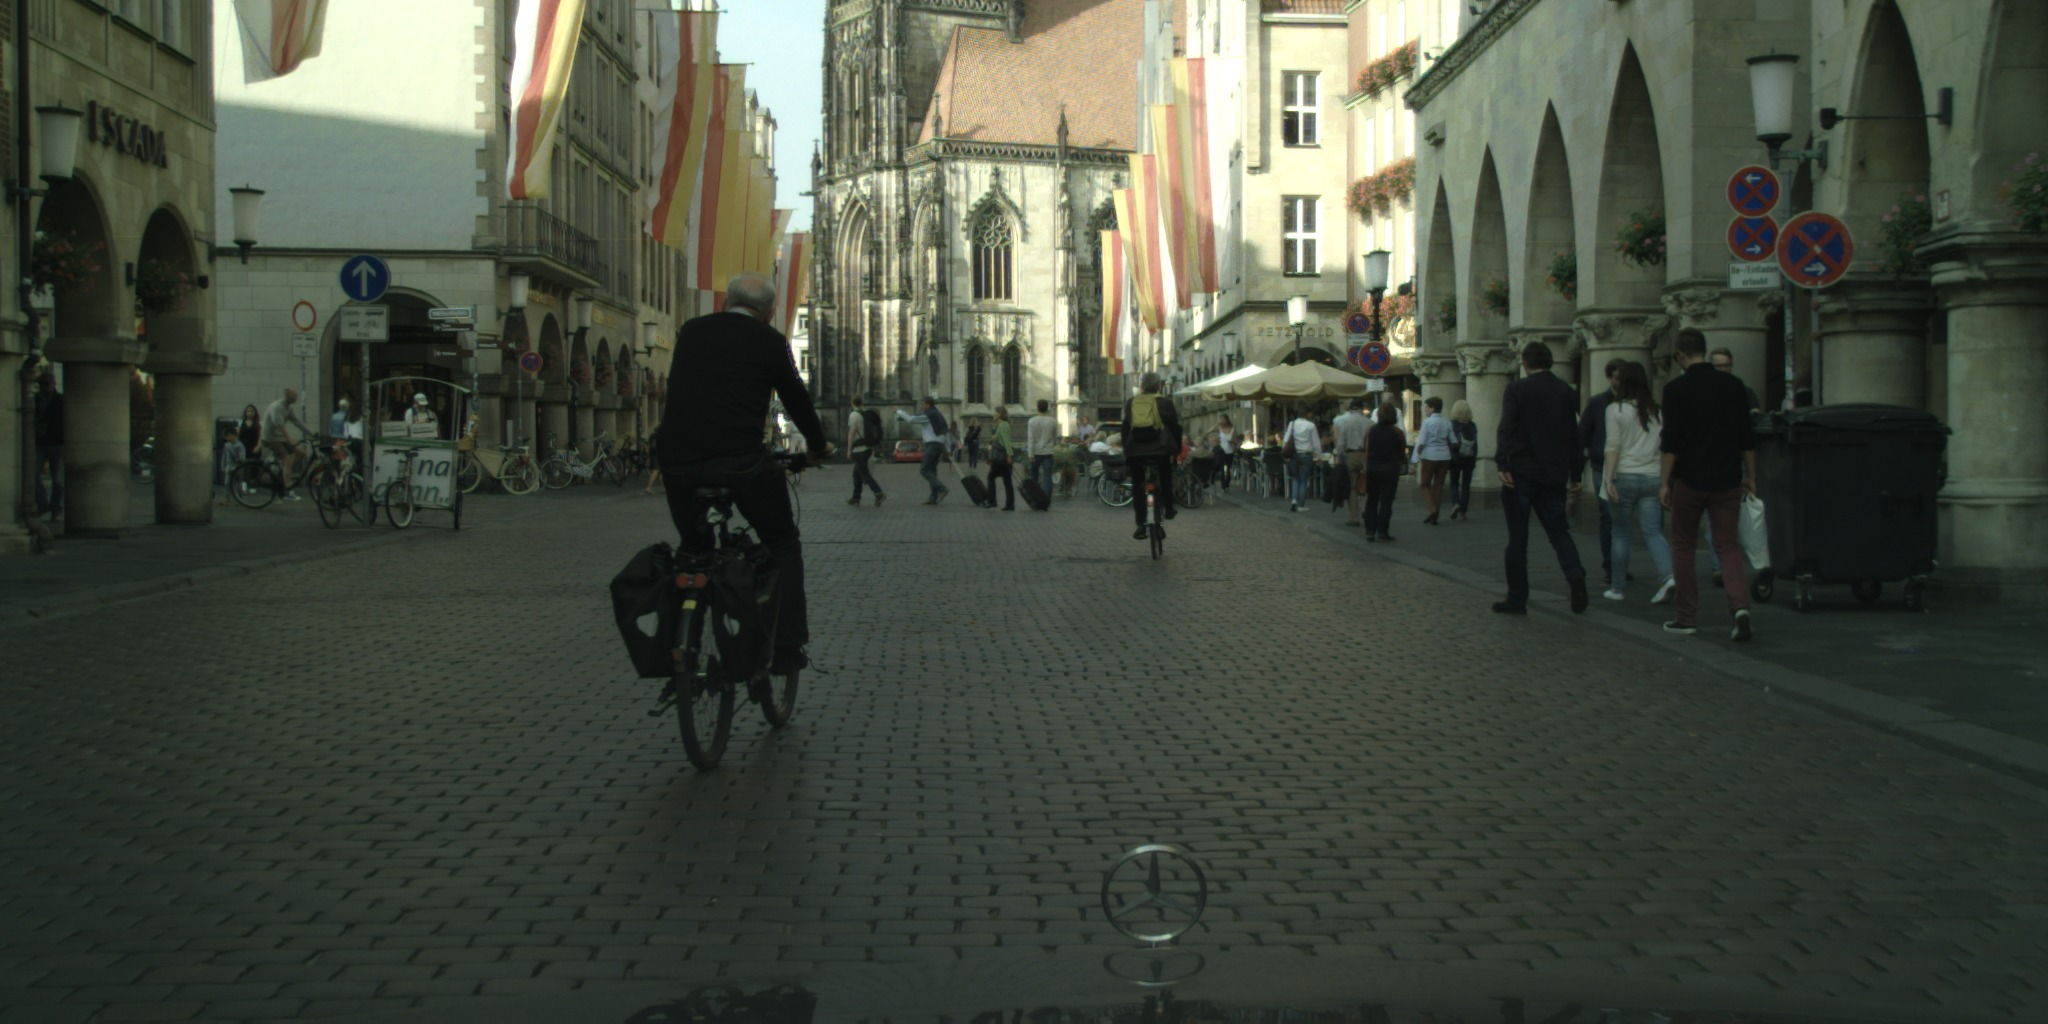bicycle: (607, 486, 801, 772), (230, 432, 355, 511), (1098, 452, 1205, 509), (316, 438, 377, 530), (539, 432, 623, 489), (380, 447, 425, 533), (1141, 453, 1164, 560), (129, 434, 158, 484)
car: (1076, 421, 1142, 477), (892, 439, 924, 464)
person: (1659, 326, 1769, 642), (1491, 340, 1591, 618), (1598, 359, 1682, 604), (1695, 346, 1768, 588), (1573, 357, 1636, 586), (1322, 399, 1376, 528), (261, 386, 321, 501), (1361, 402, 1409, 544), (1407, 394, 1458, 526), (892, 397, 953, 505), (28, 372, 65, 523), (843, 393, 886, 508), (1283, 401, 1322, 513), (1444, 398, 1480, 519), (1026, 399, 1062, 507), (984, 406, 1018, 512), (1370, 390, 1408, 479), (234, 404, 264, 495), (404, 392, 444, 451), (349, 410, 373, 492), (219, 428, 246, 506), (645, 417, 669, 496), (368, 404, 392, 481), (1075, 414, 1097, 474), (328, 399, 353, 443), (963, 416, 982, 468), (945, 420, 965, 463), (1273, 432, 1286, 453)
rider: (663, 270, 836, 673), (1121, 373, 1183, 541), (261, 386, 321, 501)
